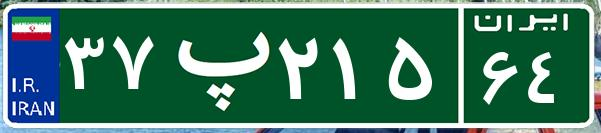1: (330, 28, 385, 110)
2: (273, 28, 330, 110)
3: (57, 26, 110, 107)
4: (525, 38, 570, 115)
5: (385, 28, 445, 110)
6: (475, 38, 525, 113)
7: (110, 28, 158, 105)
پ: (158, 15, 273, 115)
